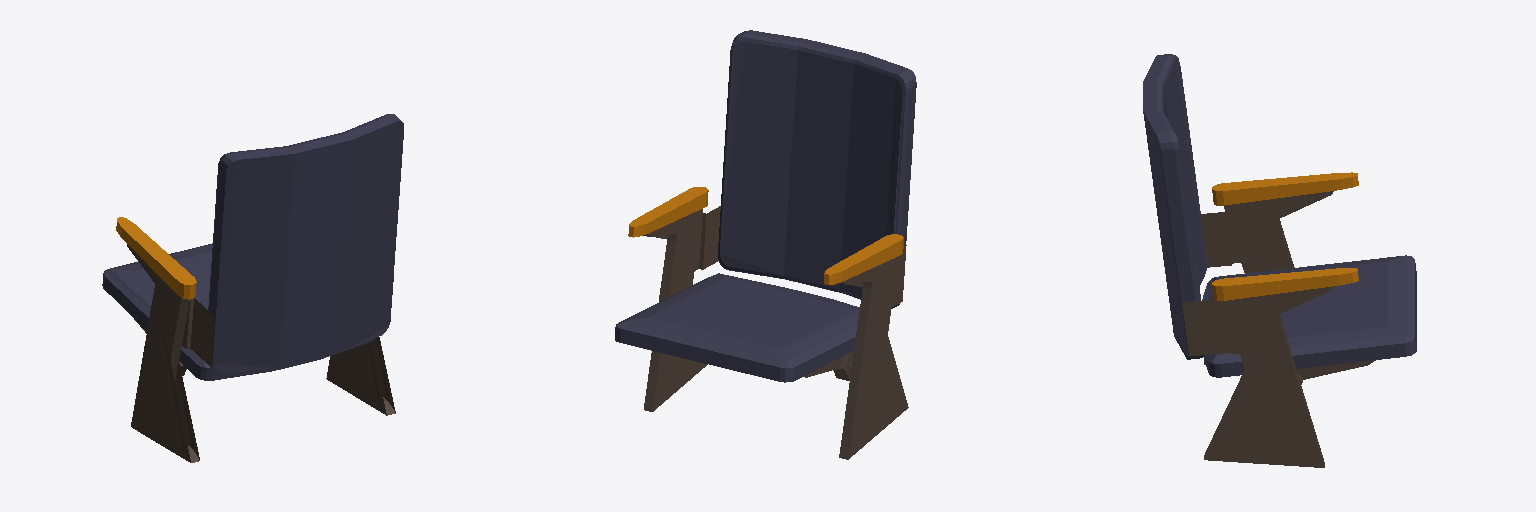
The model's file is chair.obj.
3 views of the same model, side by side, from view 1: azimuth 30°, elevation 25°; view 2: azimuth 150°, elevation 25°; view 3: azimuth 270°, elevation 25° (orthographic).
Parts seen in each view (by area): view 1: 立方体.001, 立方体.002, Cube, 立方体.004_立方体.002, 立方体.003, 平面; view 2: 立方体.001, Cube, 立方体.002, 立方体.004_立方体.002, 立方体.003, 立方体.005_立方体.003, 平面.001, 円柱; view 3: 立方体.004_立方体.002, Cube, 立方体.001, 立方体.002, 立方体.005_立方体.003, 立方体.003, 平面.001, 平面, 円柱.001.
Boxes of the visible parts, x1=… form: 立方体.001: x1=208, y1=114, x2=403, y2=373; 立方体.002: x1=127, y1=244, x2=199, y2=462; Cube: x1=102, y1=243, x2=374, y2=380; 立方体.004_立方体.002: x1=326, y1=337, x2=395, y2=415; 立方体.003: x1=116, y1=217, x2=196, y2=299; 平面: x1=182, y1=298, x2=215, y2=367; 立方体.001: x1=718, y1=30, x2=916, y2=308; Cube: x1=615, y1=273, x2=859, y2=382; 立方体.002: x1=839, y1=256, x2=908, y2=459; 立方体.004_立方体.002: x1=643, y1=209, x2=707, y2=411; 立方体.003: x1=824, y1=234, x2=903, y2=284; 立方体.005_立方体.003: x1=628, y1=187, x2=708, y2=237; 平面.001: x1=695, y1=206, x2=720, y2=270; 円柱: x1=804, y1=351, x2=853, y2=380; 立方体.004_立方体.002: x1=1204, y1=286, x2=1333, y2=467; Cube: x1=1202, y1=255, x2=1416, y2=377; 立方体.001: x1=1143, y1=54, x2=1206, y2=359; 立方体.002: x1=1204, y1=191, x2=1333, y2=364; 立方体.005_立方体.003: x1=1212, y1=268, x2=1358, y2=300; 立方体.003: x1=1212, y1=172, x2=1358, y2=205; 平面.001: x1=1182, y1=300, x2=1239, y2=355; 平面: x1=1201, y1=209, x2=1241, y2=267; 円柱.001: x1=1297, y1=360, x2=1375, y2=384.
Bounding box in the file's own units: 2.38 × 3.49 × 2.66.